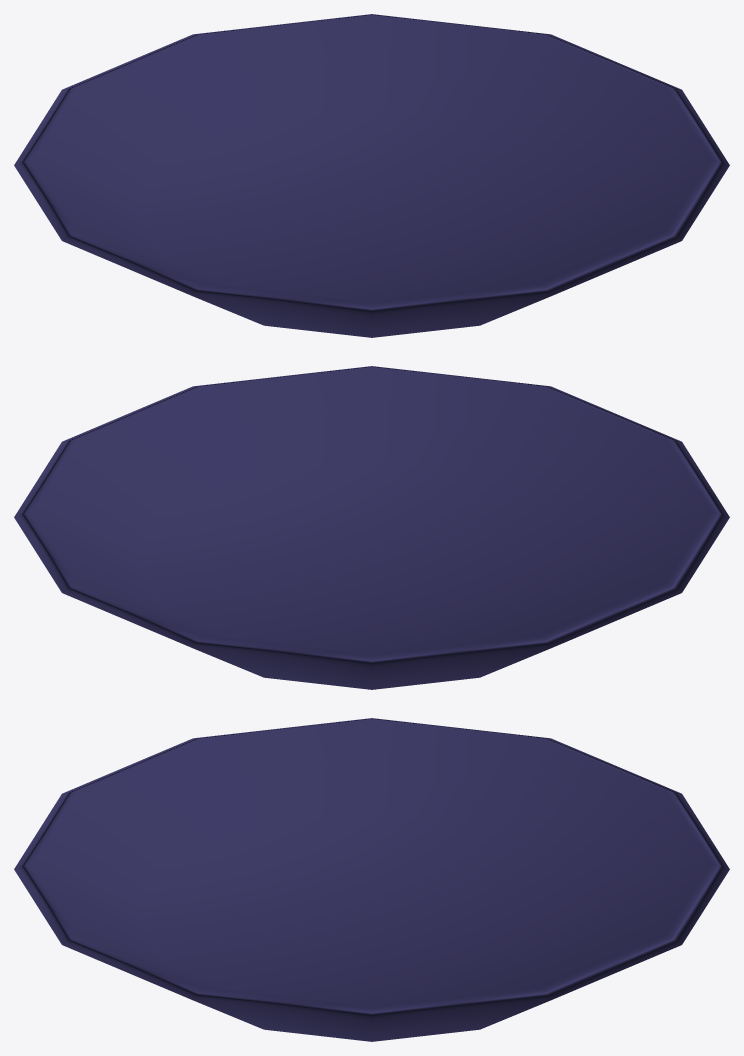
Rendered from Plate_01.fbx.
The picture shows the model from 3 angles, top to bottom: view 1: azimuth 30°, elevation 25°; view 2: azimuth 150°, elevation 25°; view 3: azimuth 270°, elevation 25°; orthographic projection.
Visible parts, largest first — view 1: Plate_01; view 2: Plate_01; view 3: Plate_01.
Part boxes in pixels (x1,y1,x2,y2): Plate_01: (14,14,729,337); Plate_01: (14,366,729,689); Plate_01: (14,718,729,1041).
Size of the model in its own units: 47.48 by 6.41 by 47.48.
